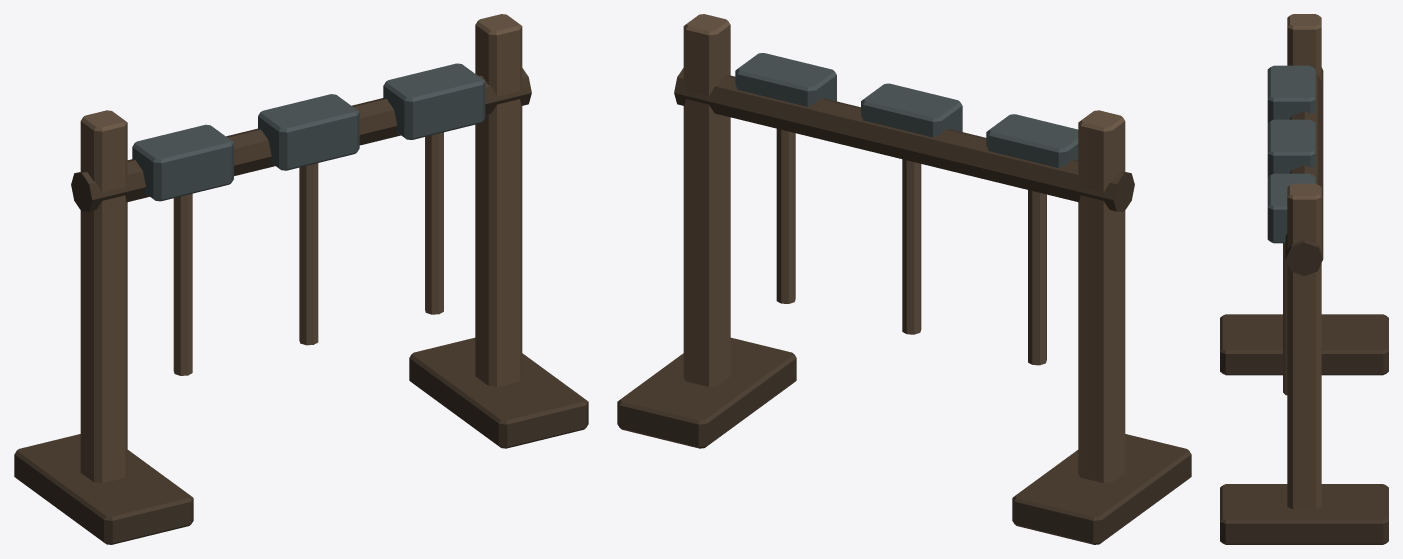
The model's file is hammer-rack.glb.
The picture shows the model from 3 angles, left to right: view 1: azimuth 30°, elevation 25°; view 2: azimuth 150°, elevation 25°; view 3: azimuth 270°, elevation 25°; orthographic projection. The views are drawn at different scales.
Parts seen in each view (by area): view 1: hammer-rack__body; view 2: hammer-rack__body; view 3: hammer-rack__body.
Part boxes in pixels (box(x1,y1,x2,y2)): hammer-rack__body: box(14, 14, 588, 544); hammer-rack__body: box(617, 14, 1191, 544); hammer-rack__body: box(1220, 14, 1388, 544).
Bounding box in the file's own units: 1.08 × 0.815 × 0.37.
